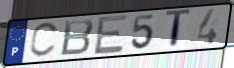4: (195, 7, 218, 46)
5: (128, 13, 157, 52)
B: (59, 18, 96, 58)
C: (28, 21, 61, 59)
E: (93, 13, 129, 56)
T: (164, 7, 193, 51)
